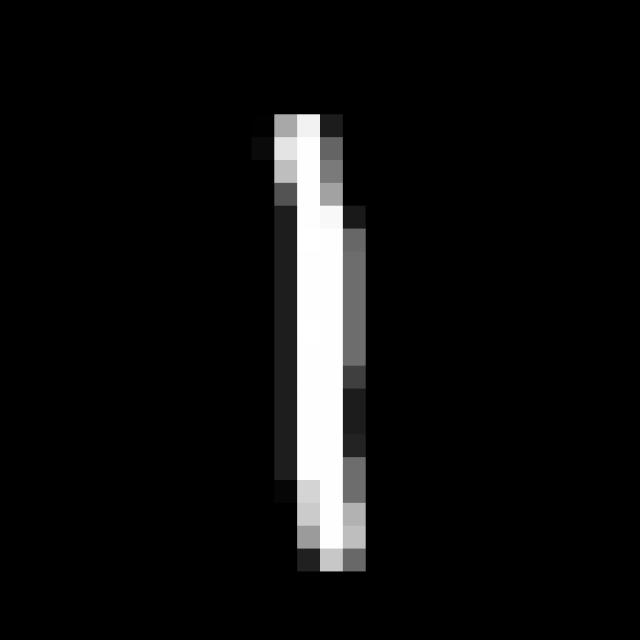one -1-: (245, 87, 403, 593)
